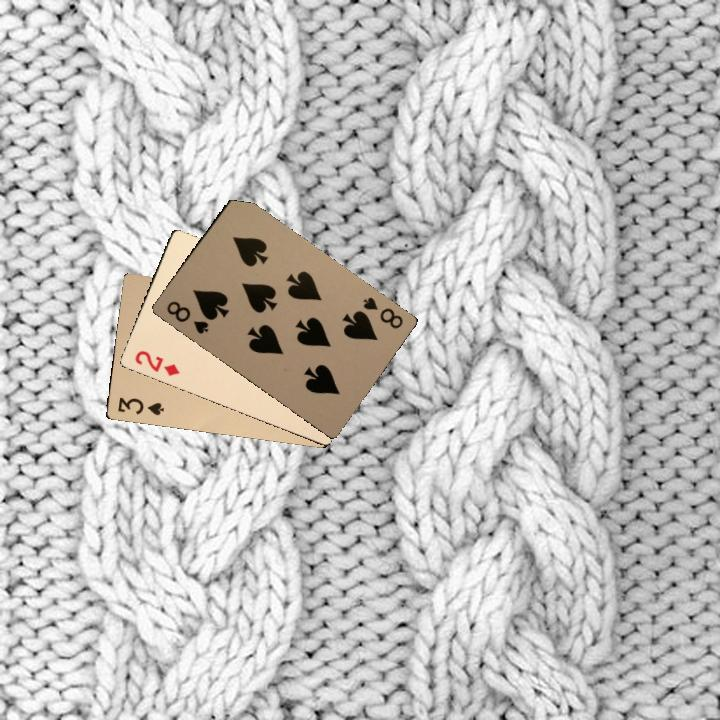2d: (131, 346, 182, 379)
3s: (114, 393, 166, 418)
8s: (162, 297, 211, 337), (359, 293, 406, 331)
